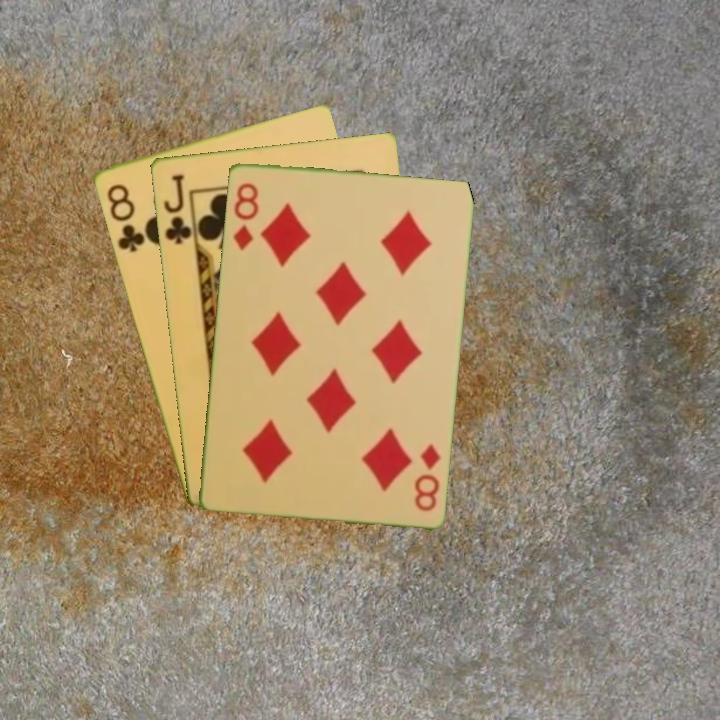8c: (102, 180, 147, 255)
8d: (410, 440, 444, 514), (229, 179, 261, 253)
Jc: (160, 170, 194, 247)
